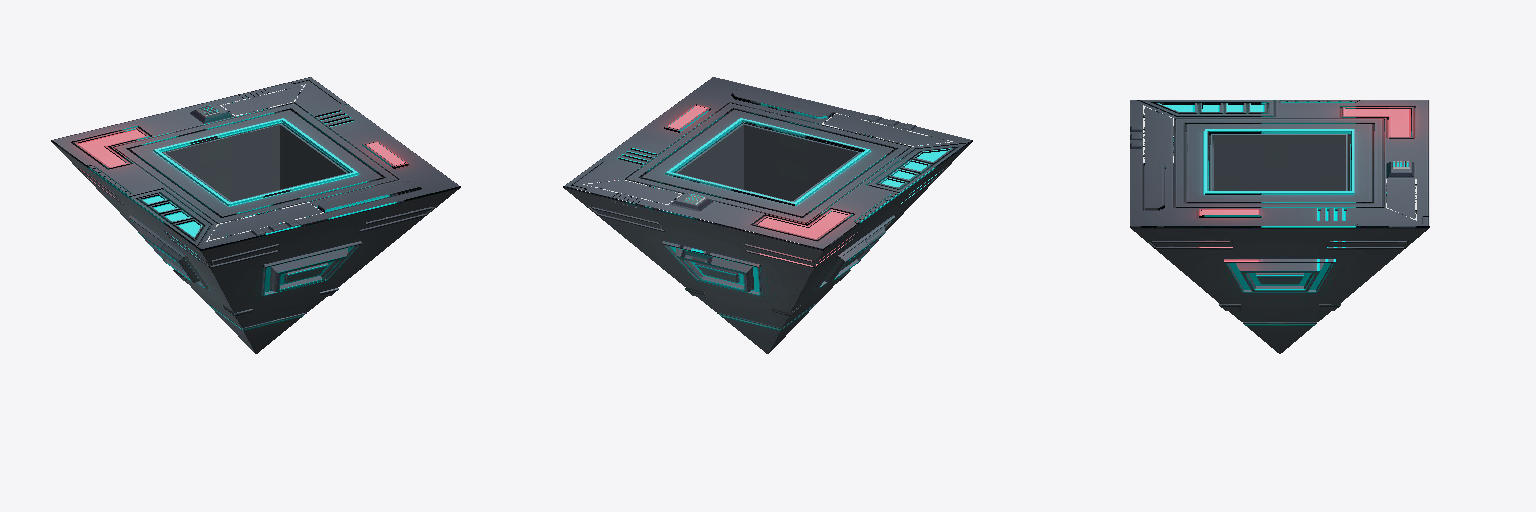
3 views of the same model, side by side, from view 1: azimuth 30°, elevation 25°; view 2: azimuth 150°, elevation 25°; view 3: azimuth 270°, elevation 25° (orthographic).
Parts seen in each view (by area): view 1: Table; view 2: Table; view 3: Table.
Boxes of the visible parts, x1=… form: Table: x1=51, y1=77, x2=460, y2=353; Table: x1=563, y1=77, x2=972, y2=353; Table: x1=1130, y1=100, x2=1429, y2=353.
Size of the model in its own units: 191 by 138 by 191.
Materials: 1 (1 with a texture image).